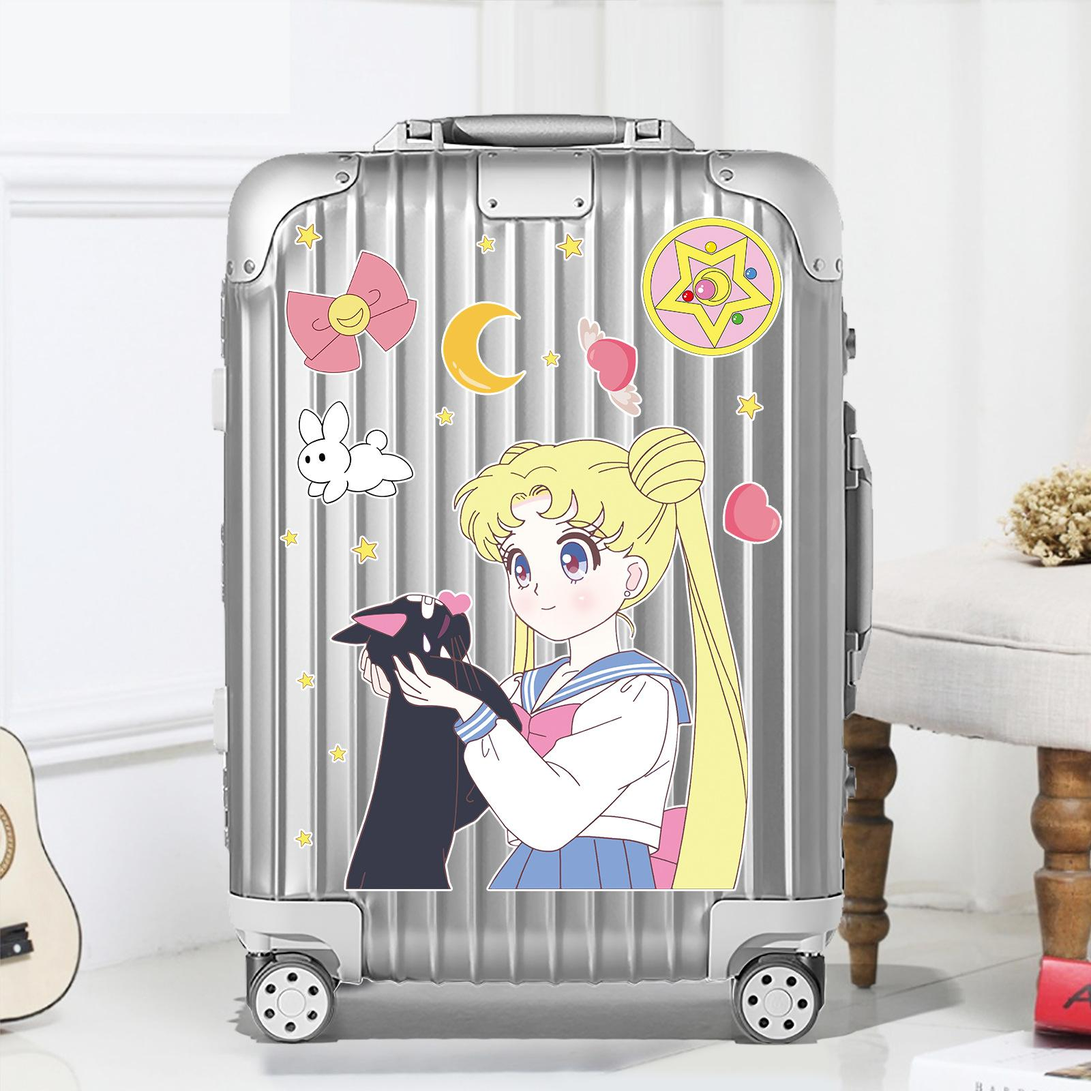box: (223, 150, 843, 986)
handle: (373, 113, 700, 150), (843, 396, 874, 718)
wheel: (243, 951, 336, 1044), (732, 953, 825, 1043)
